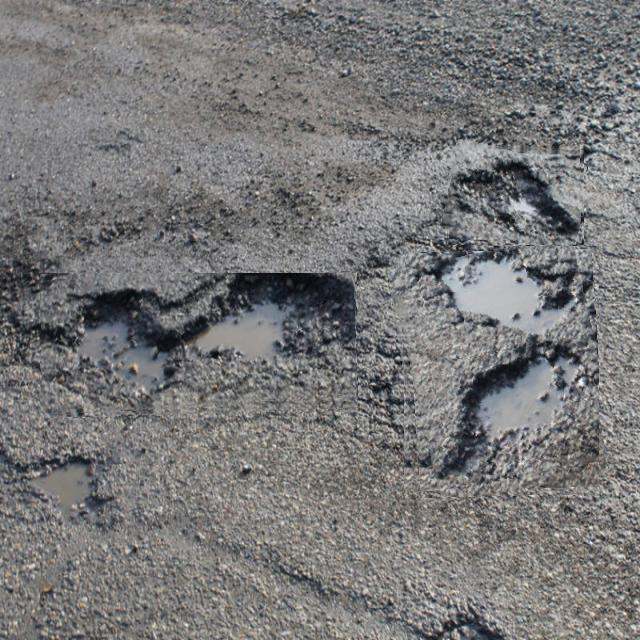Pothole: (396, 246, 599, 498), (40, 274, 357, 416), (445, 145, 584, 245)
